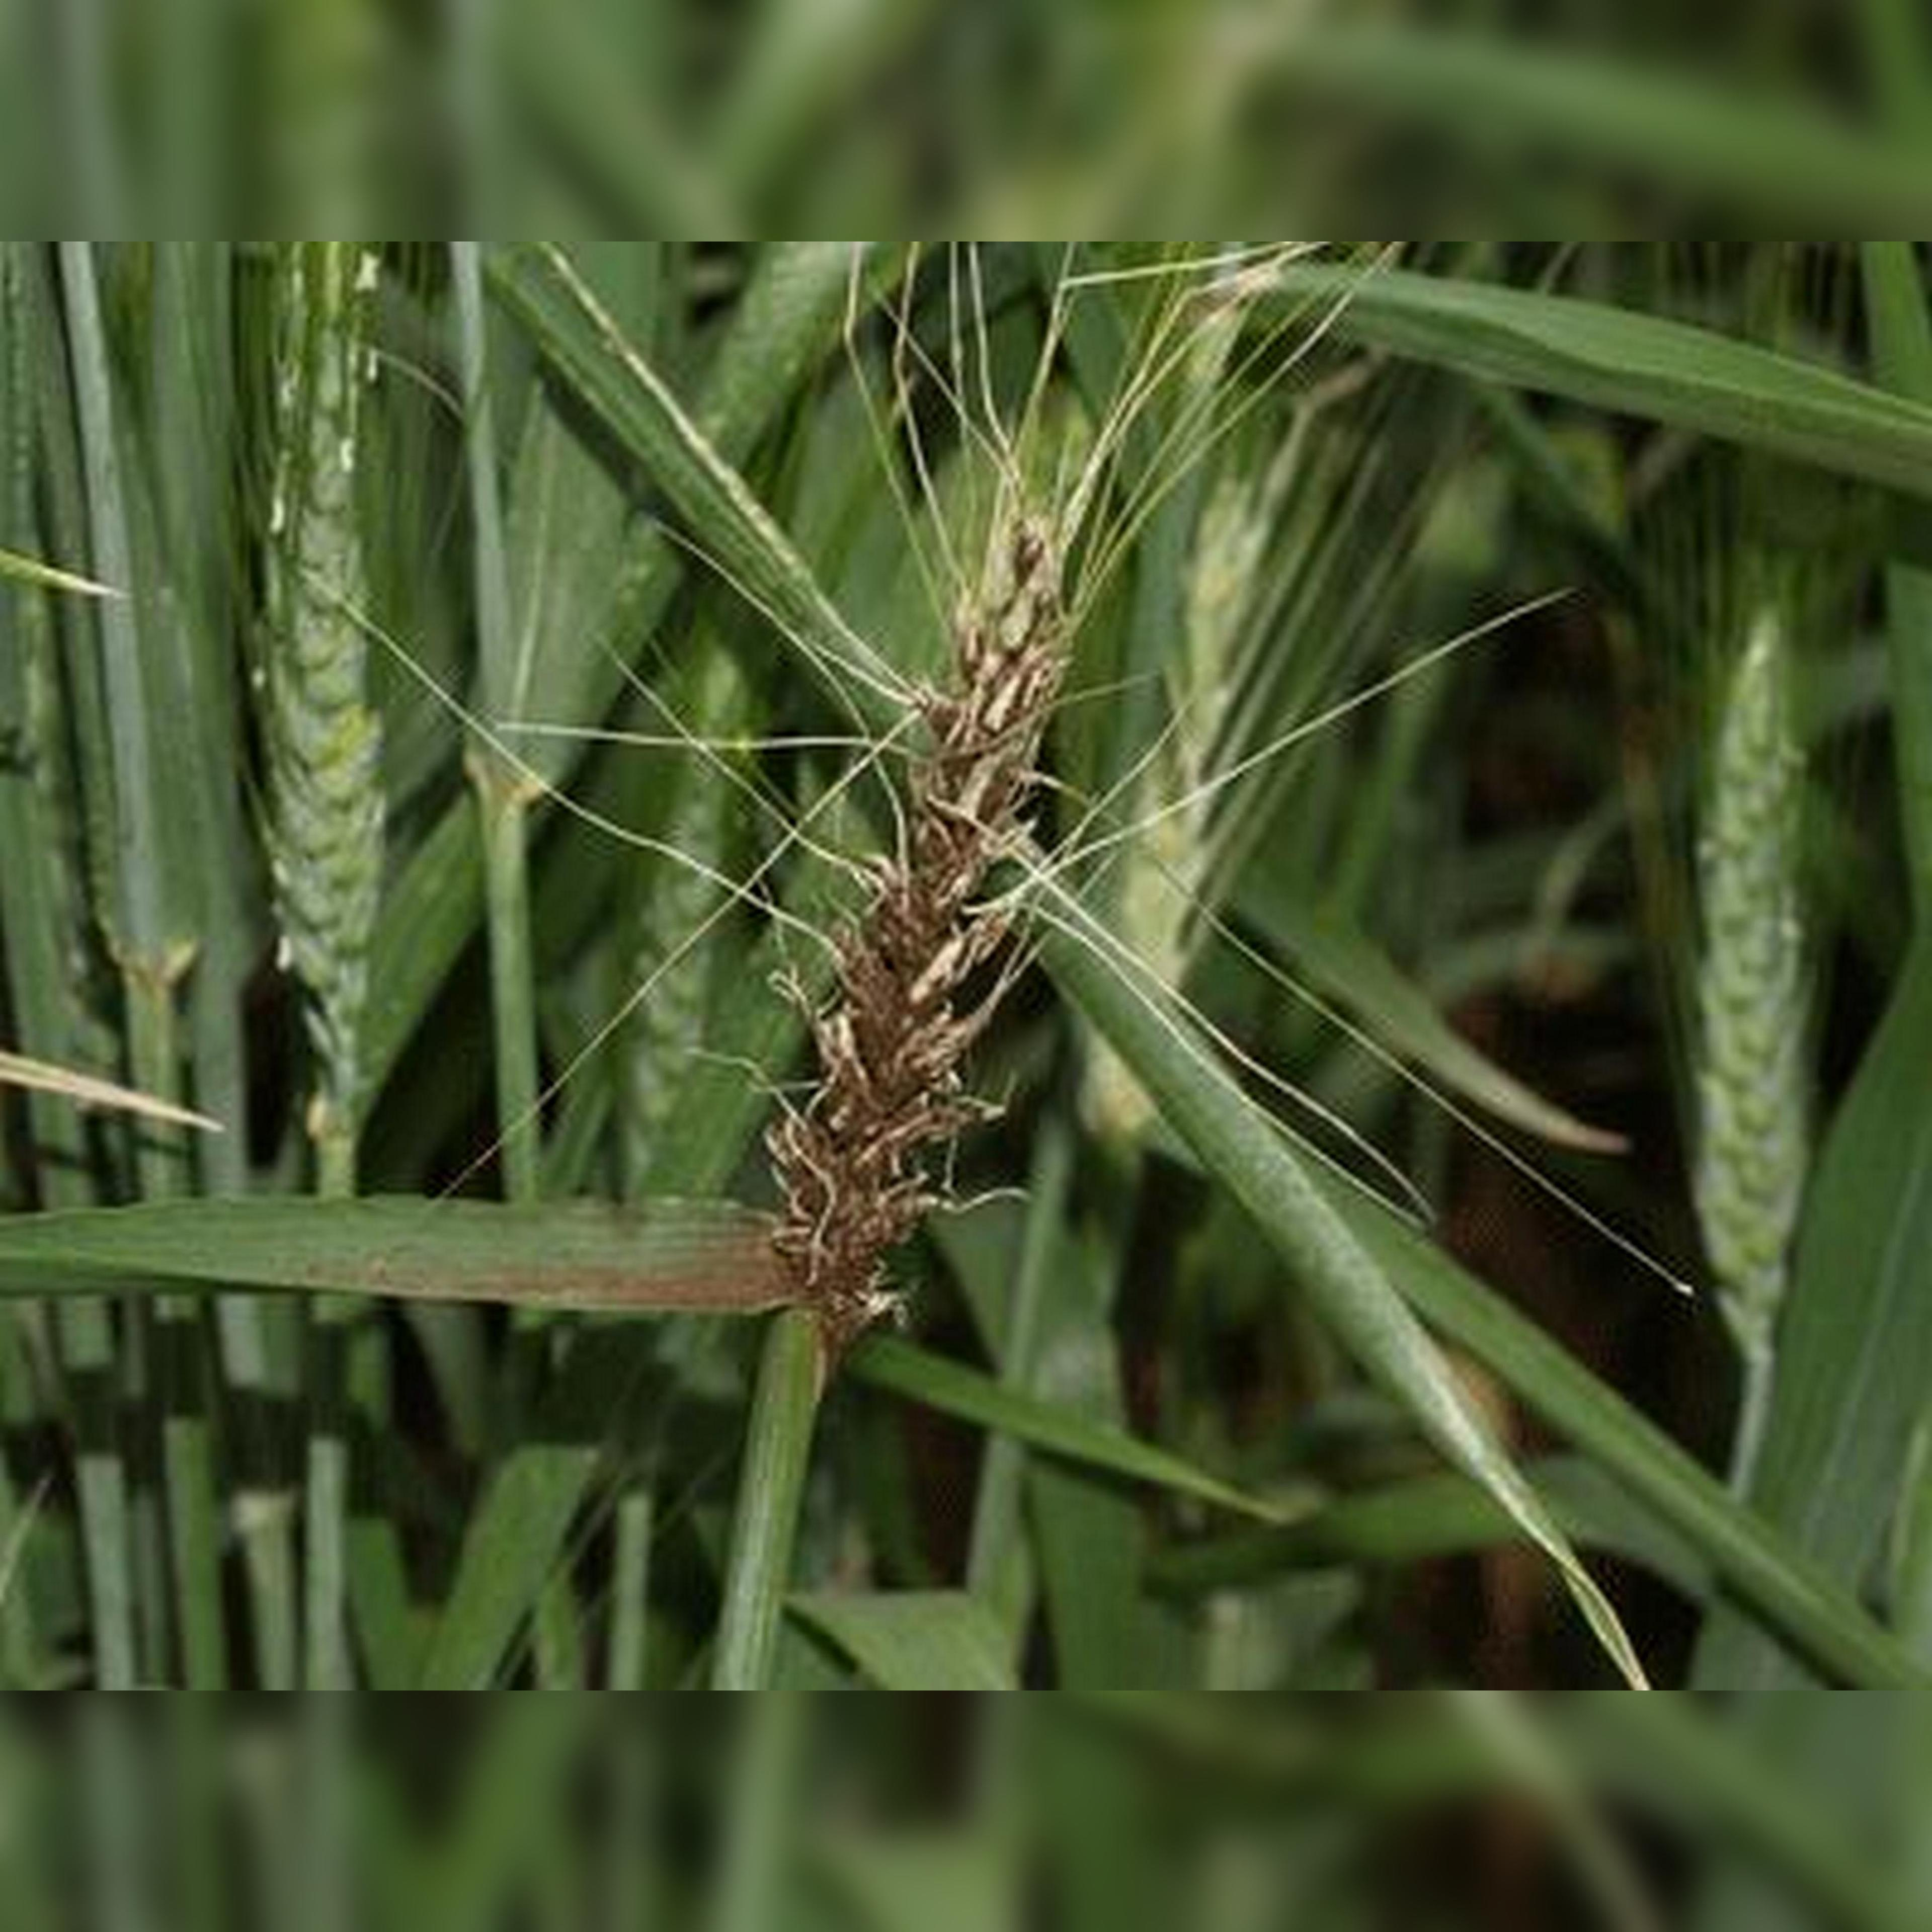Wheat Loose Smut: (764, 471, 1169, 1293)
